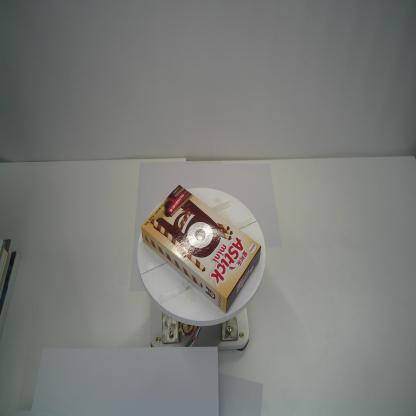Dessert: (140, 183, 262, 314)
